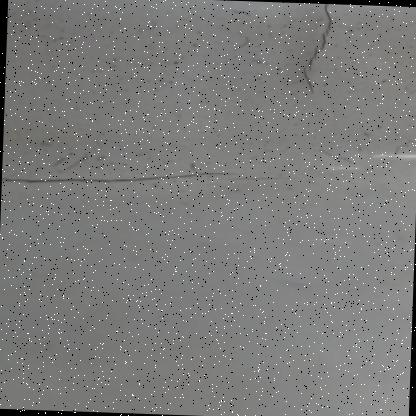Crack: (1, 134, 296, 206), (264, 2, 344, 133)
